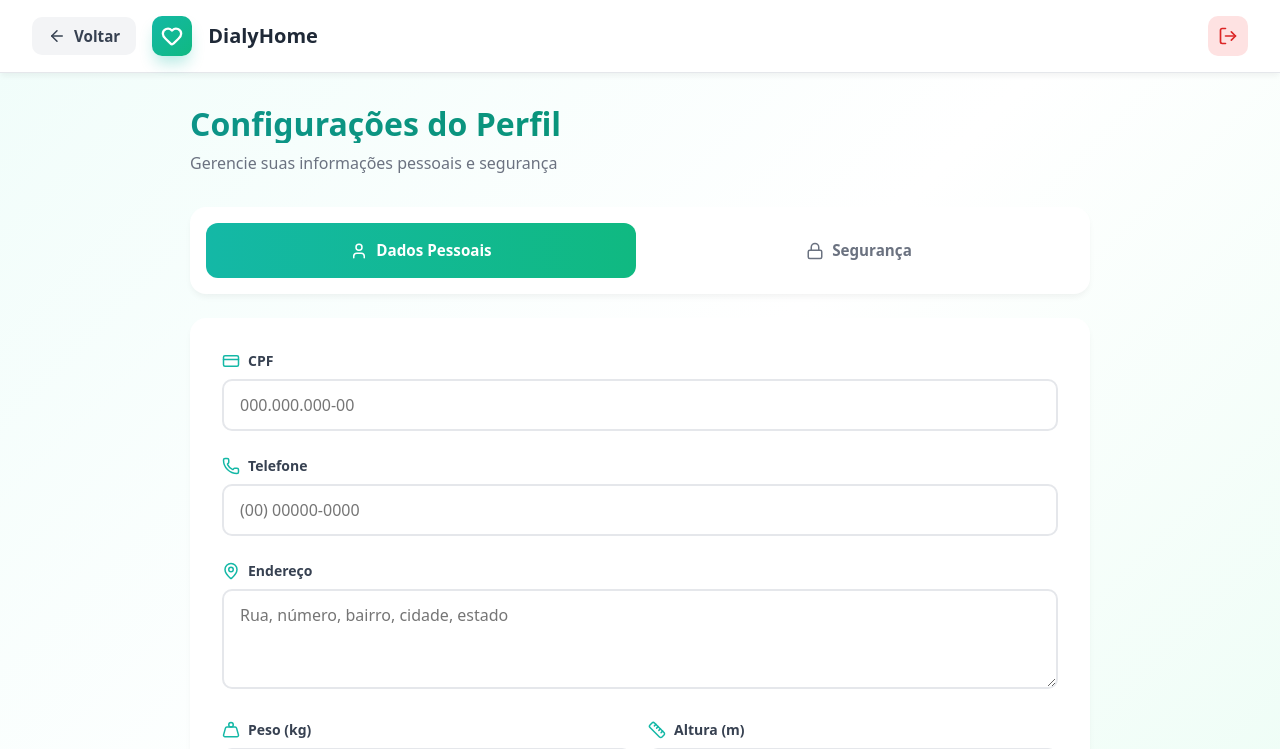
Test: 🧪 PatientProfile › valida senhas diferentes na troca de senha
This screenshot has width=1280, height=749.
expect the button "Dados Pessoais" is shown: met, box 206,223 -> 636,278
Click the button "Segurança" at (859, 251), box 644,223 -> 1074,278
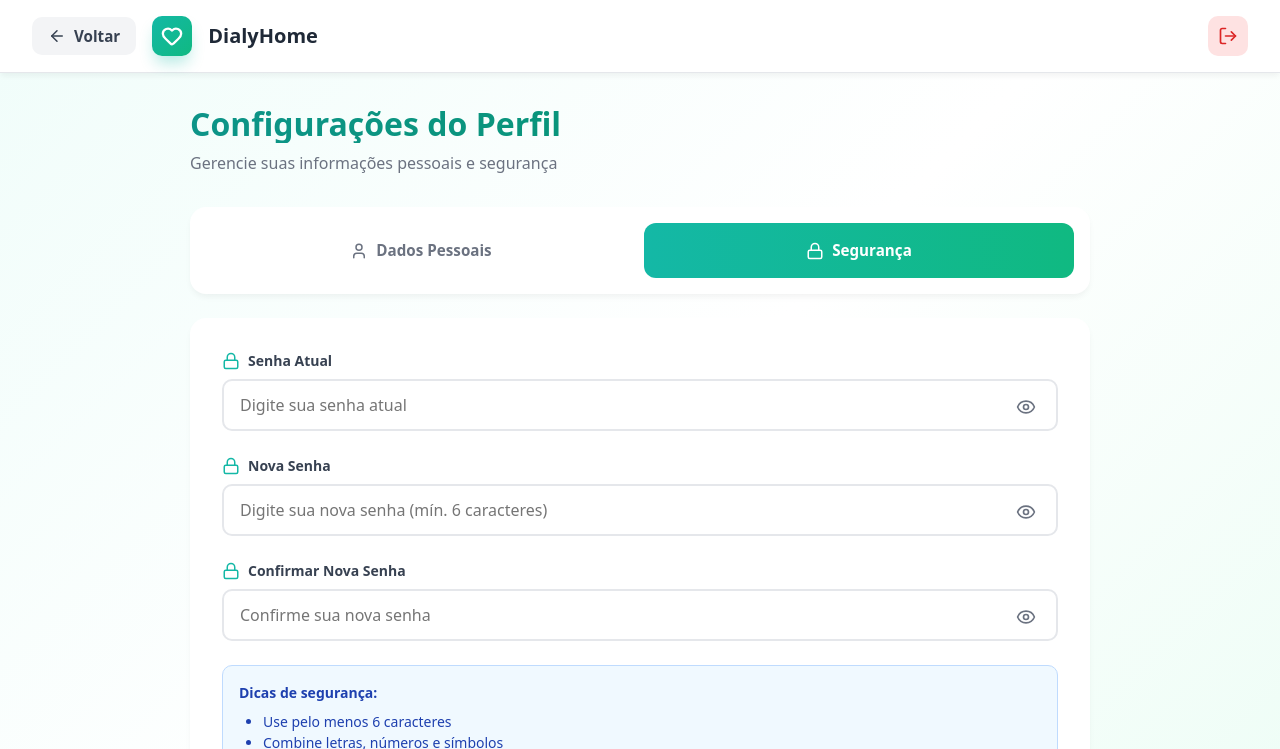
Type "123456" into the password field with placeholder "Digite sua senha atual" at (640, 405), box 222,379 -> 1058,431
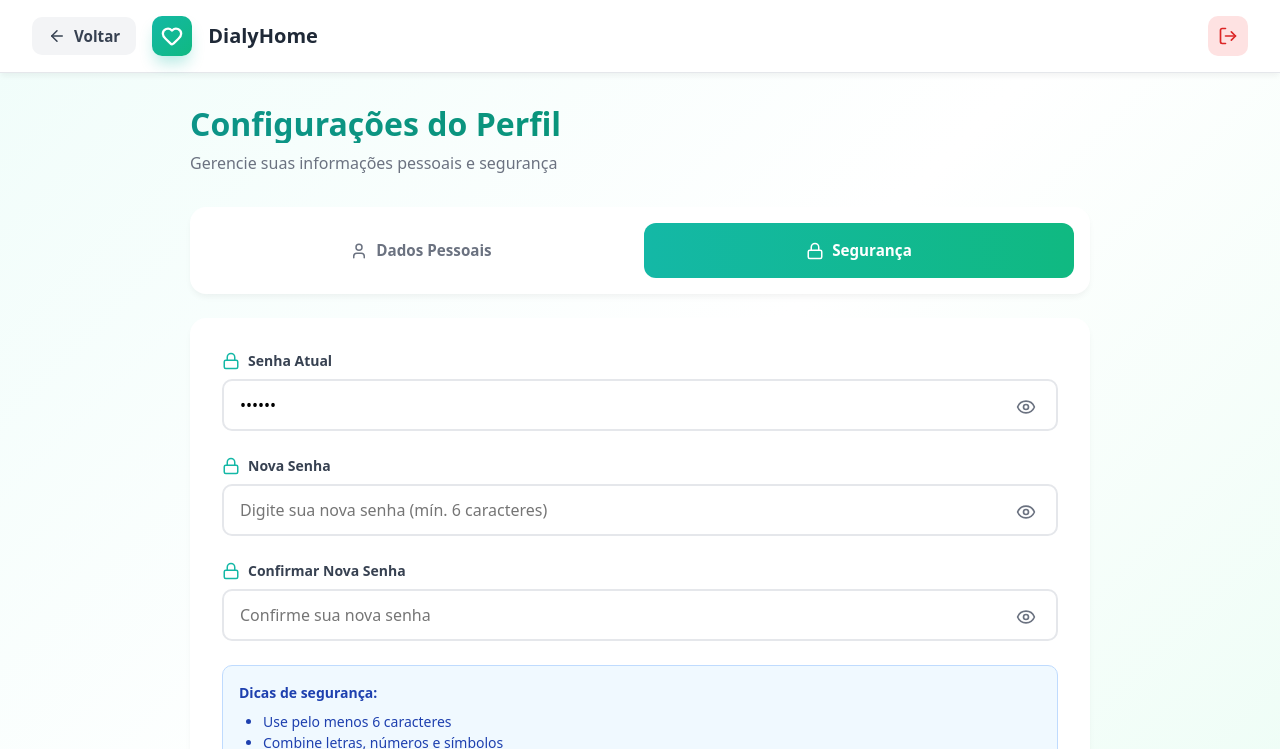
Type "abcdef" into the password field with placeholder "Digite sua nova senha (mín. 6 caracteres)" at (640, 510), box 222,484 -> 1058,536
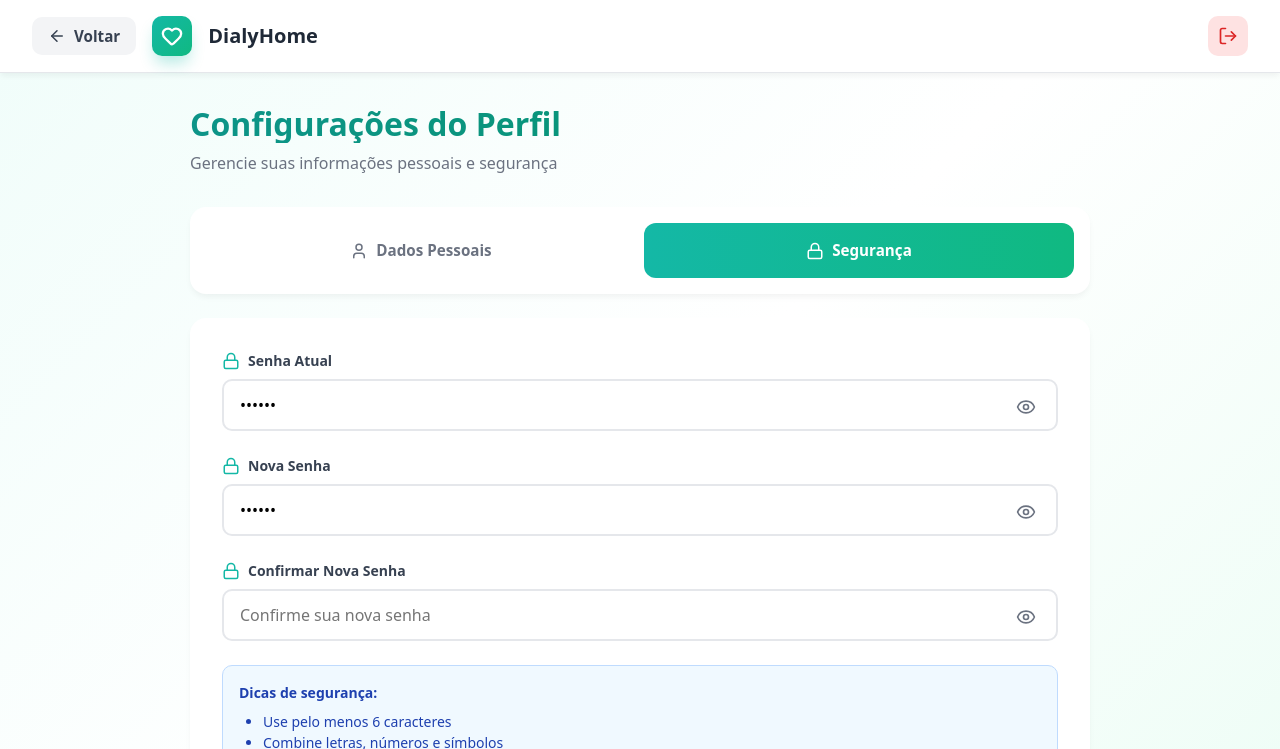
Type "123abc" into the password field with placeholder "Confirme sua nova senha" at (640, 615), box 222,589 -> 1058,641
(page scrolled)
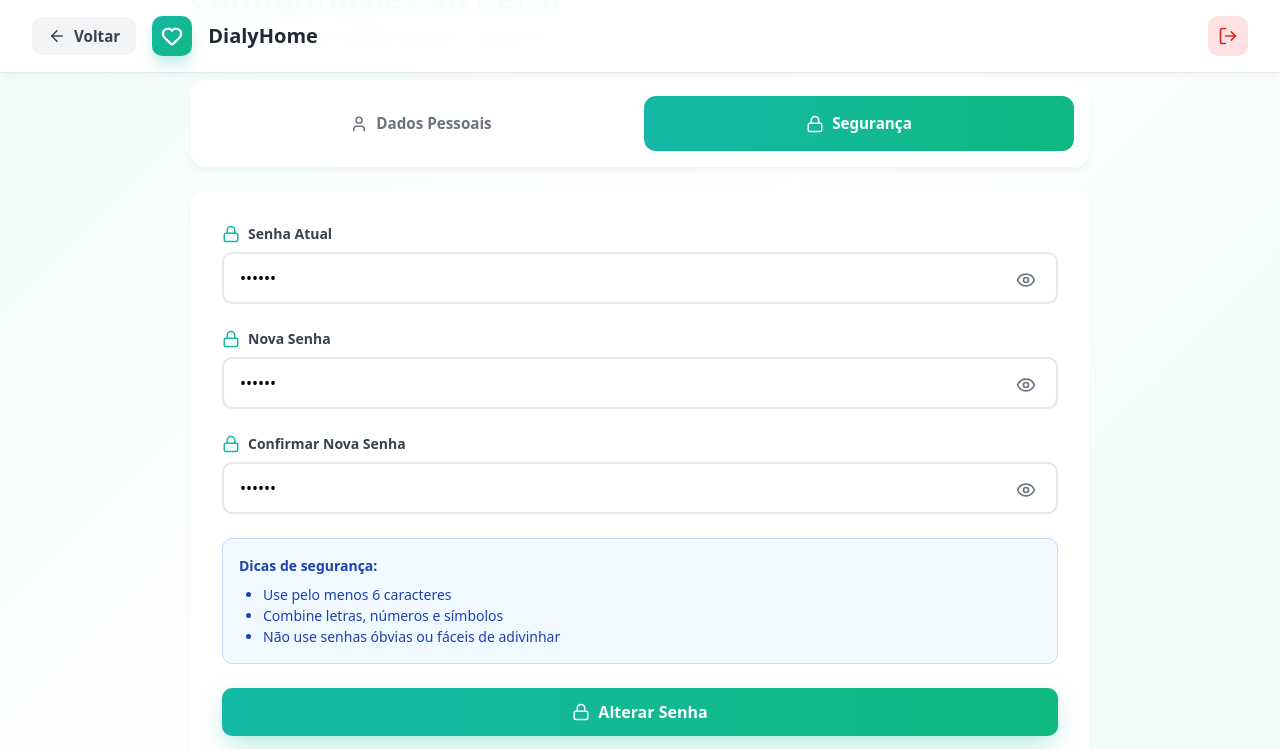
Submit the form from the button "Alterar Senha", box 222,688 -> 1058,736
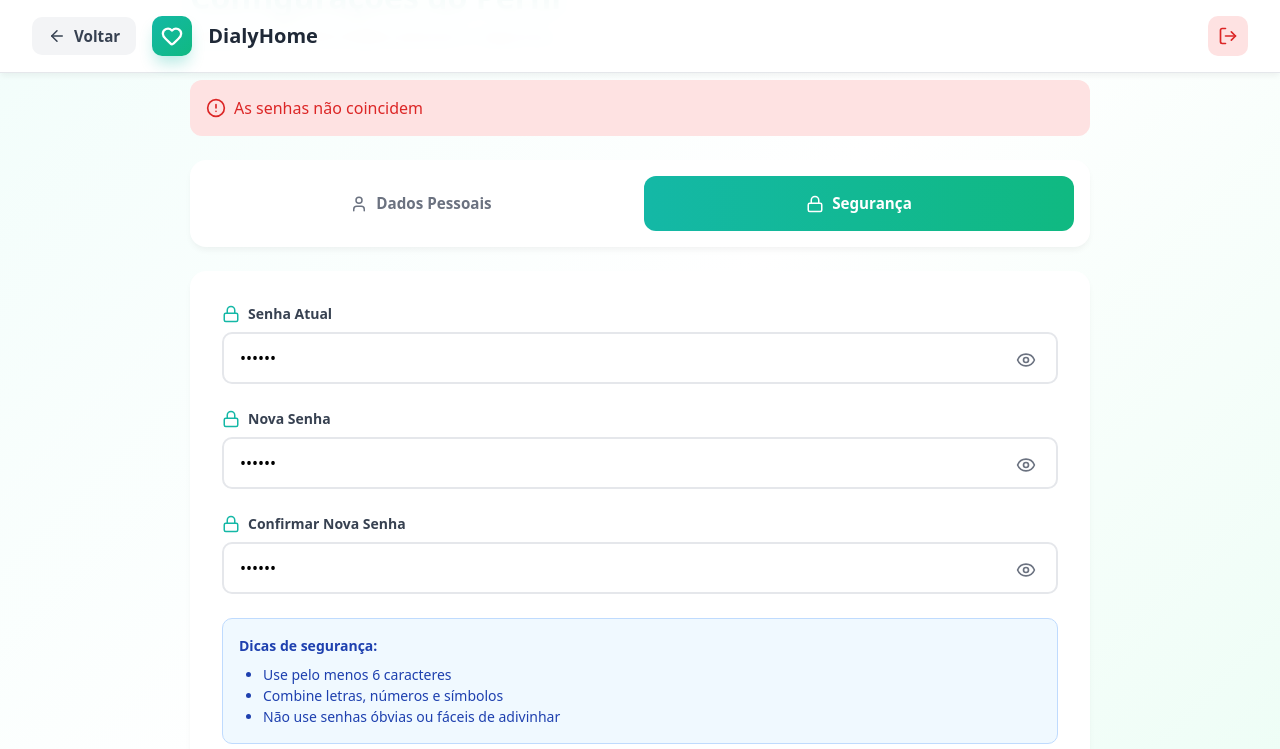
expect the text "As senhas não coincidem" is shown: met, box 190,80 -> 1090,136
